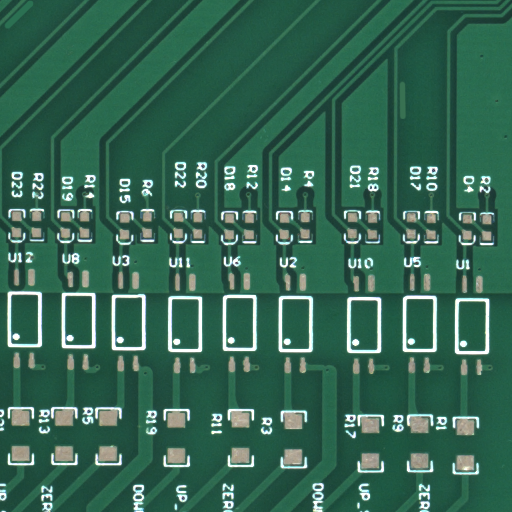Spurious_copper: (18, 13, 49, 41), (402, 101, 411, 140)
